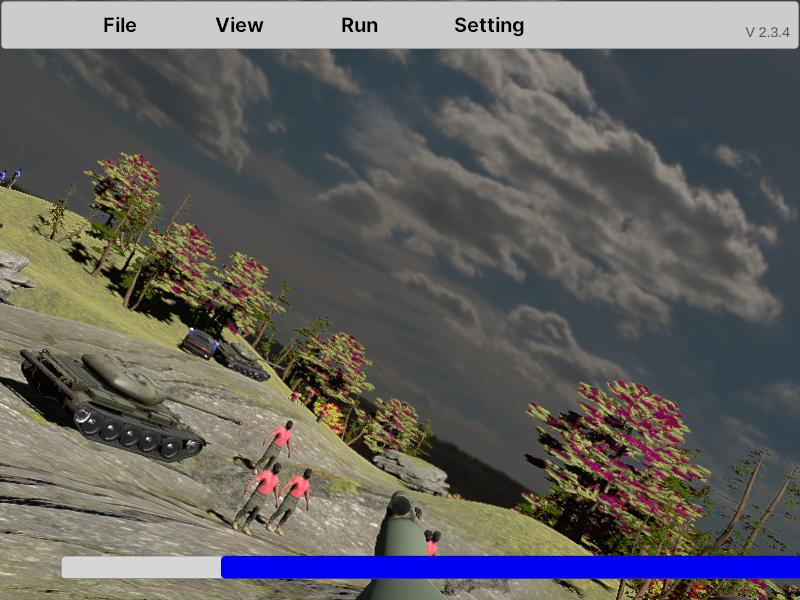Human: (231, 460, 282, 536), (265, 466, 311, 536), (268, 465, 312, 537), (260, 418, 293, 494)
Tank: (19, 345, 242, 465), (213, 339, 288, 383)
car: (179, 327, 229, 366)
